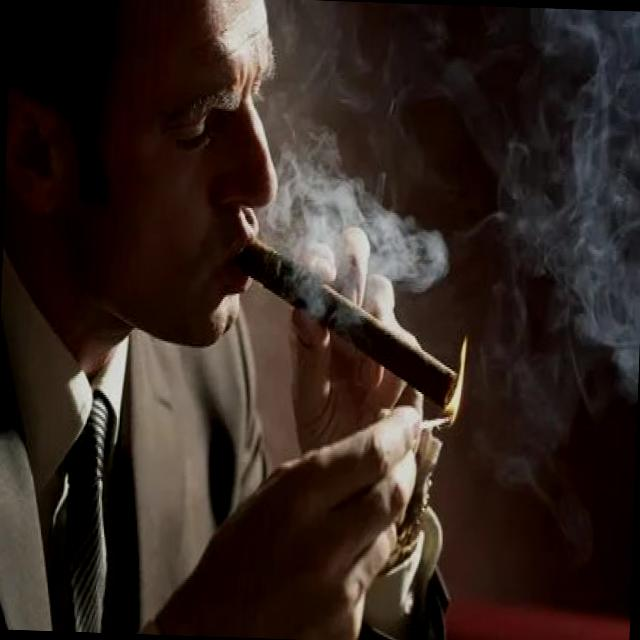smoke: (232, 237, 466, 415)
